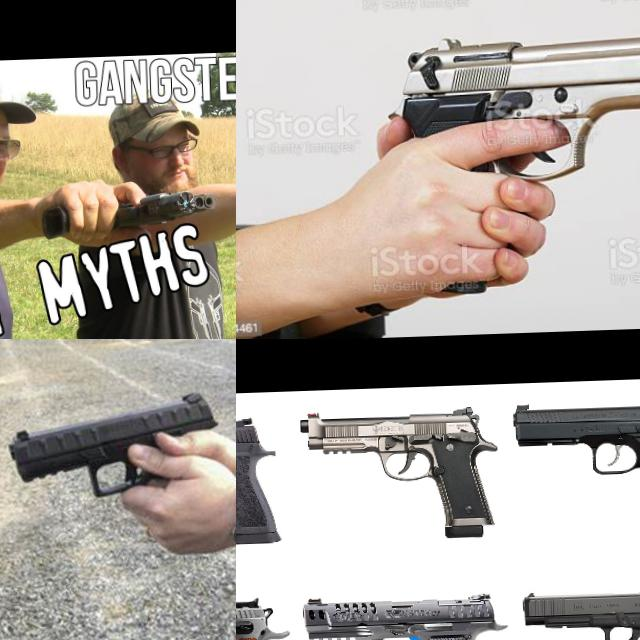handgun: (381, 11, 640, 190), (296, 404, 502, 546), (1, 384, 224, 502), (510, 394, 640, 540), (236, 413, 334, 554), (299, 589, 514, 640), (518, 584, 640, 640), (108, 187, 220, 230)
